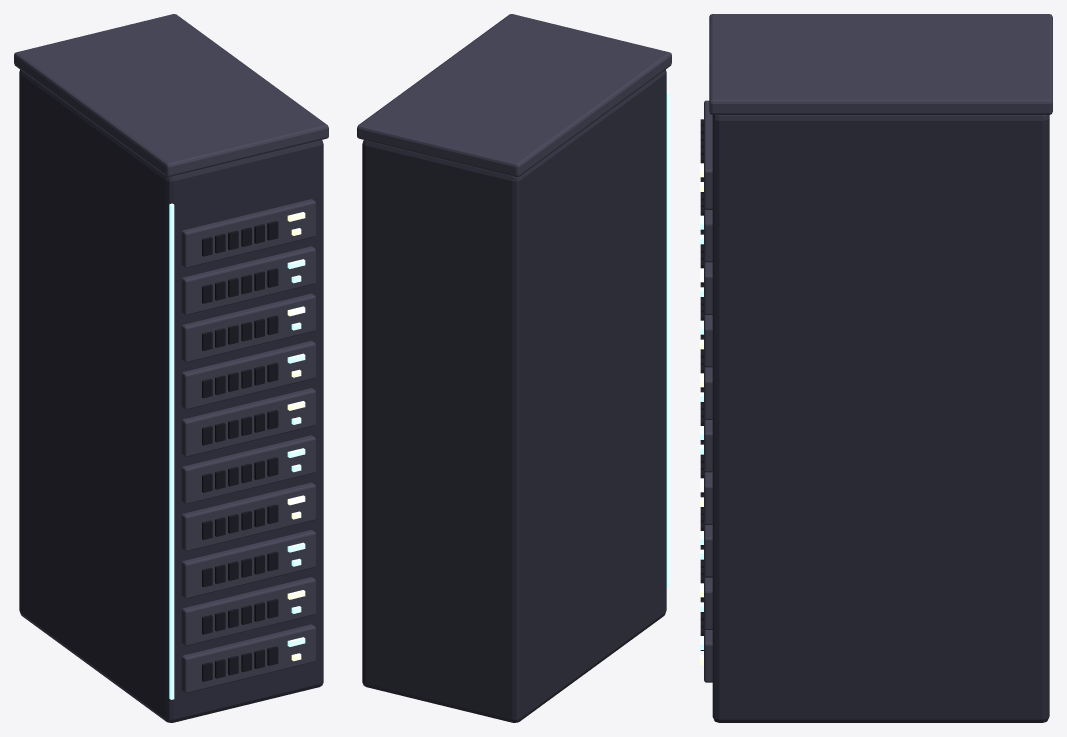
The model's file is server-rack.glb.
The picture shows the model from 3 angles, left to right: view 1: azimuth 30°, elevation 25°; view 2: azimuth 150°, elevation 25°; view 3: azimuth 270°, elevation 25°; orthographic projection. The views are drawn at different scales.
Visible parts, largest first — view 1: server-rack; view 2: server-rack; view 3: server-rack.
Part boxes in pixels (bbox=[...]): server-rack: bbox=[14, 14, 328, 722]; server-rack: bbox=[357, 14, 671, 722]; server-rack: bbox=[700, 14, 1052, 722].
Bounding box in the file's own units: 0.3024 × 1 × 0.5107.
